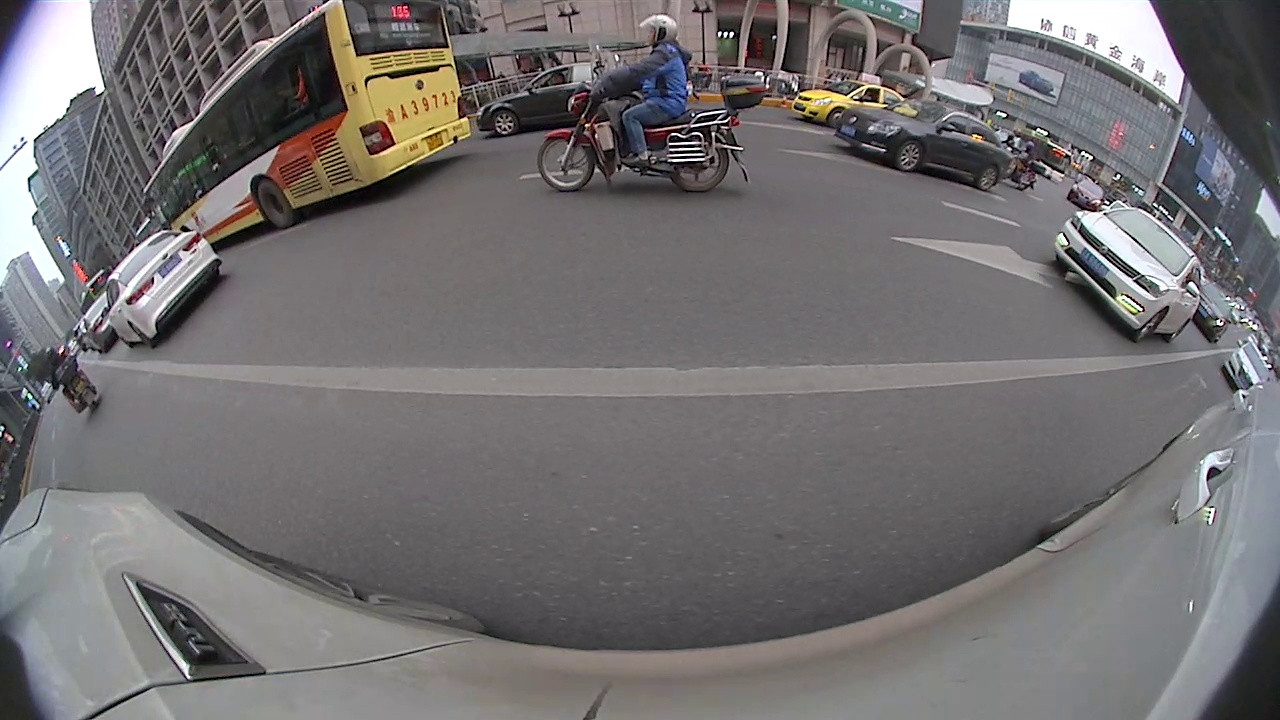bus: (142, 2, 472, 262)
car: (1052, 209, 1207, 347), (828, 107, 1011, 191), (104, 227, 224, 351), (479, 58, 636, 142), (786, 76, 913, 129), (1183, 281, 1237, 340), (1223, 338, 1273, 399)
front: (534, 129, 596, 194), (1133, 306, 1167, 347), (896, 139, 923, 174), (492, 110, 518, 139)
rear: (669, 147, 731, 194), (253, 178, 297, 231), (975, 163, 1001, 192)
rider: (533, 14, 769, 192), (46, 341, 101, 418)
